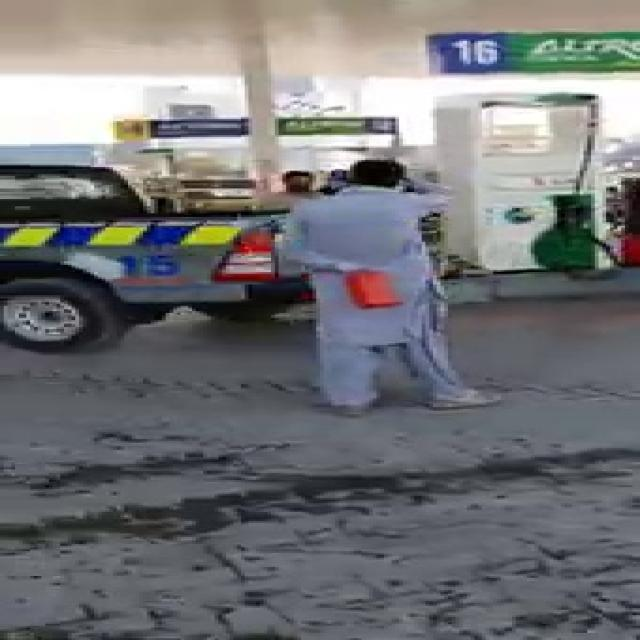police: (0, 159, 274, 340)
